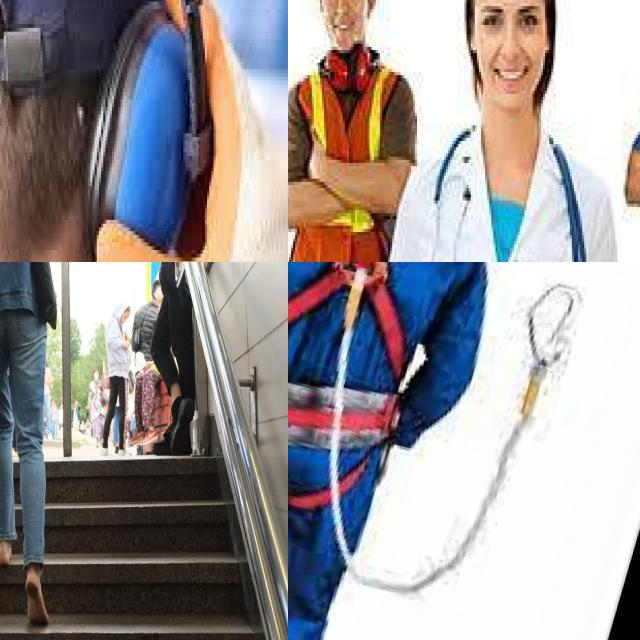Barefoots: (25, 572, 49, 626), (0, 542, 11, 564)
Ear-protection: (0, 0, 215, 240)
Harness: (288, 262, 407, 419)
No_Ear-Protection: (463, 0, 559, 116), (315, 0, 385, 62)
